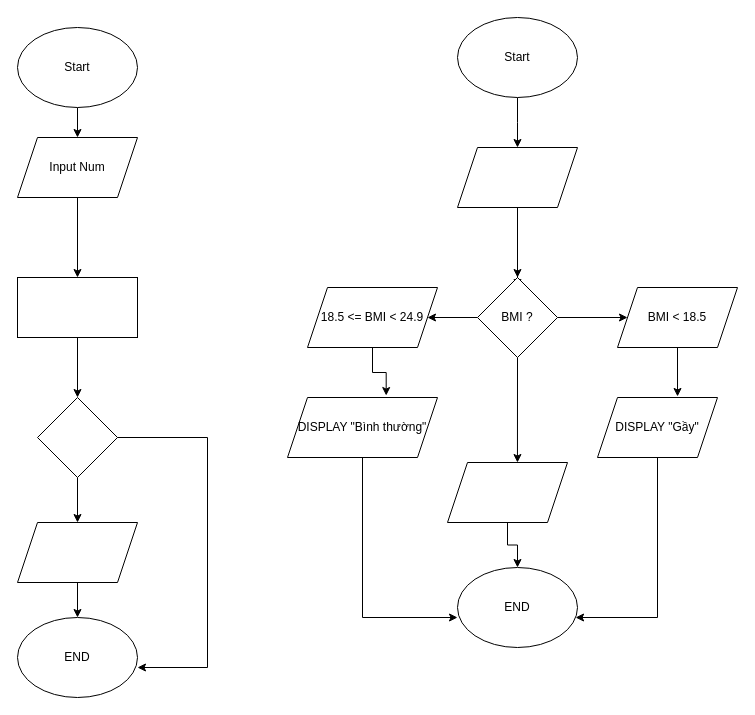
Image size: 755x715. Some labels were removed from this diagram. The box of each missing label's shape, as (x1, y1, x2, y2) in pixels:
DISPLAY "Béo phì": (446, 462, 568, 522)
Display "num is even": (16, 522, 138, 582)
Input BMI: (456, 146, 578, 208)
R = 0 ?: (36, 396, 118, 478)
r = num MOD 2: (16, 276, 138, 338)
